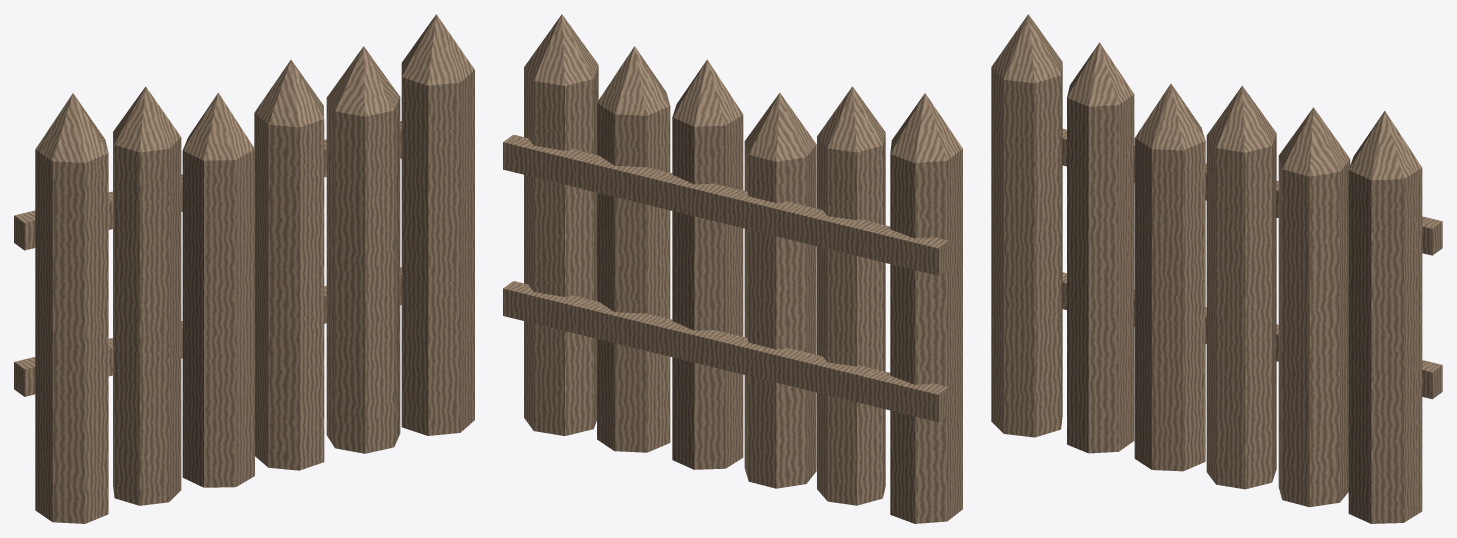
3 renders of one model, left to right at view 1: azimuth 30°, elevation 25°; view 2: azimuth 150°, elevation 25°; view 3: azimuth 330°, elevation 25°, orthographic.
Parts seen in each view (by area): view 1: 목책; view 2: 목책; view 3: 목책.
Boxes of the visible parts, x1,y1,x2,y2 form: 목책: [14, 14, 474, 523]; 목책: [503, 14, 962, 523]; 목책: [991, 14, 1442, 523].
Bounding box in the file's own units: 600 × 547 × 99.41.
Materials: 1 (1 with a texture image).
